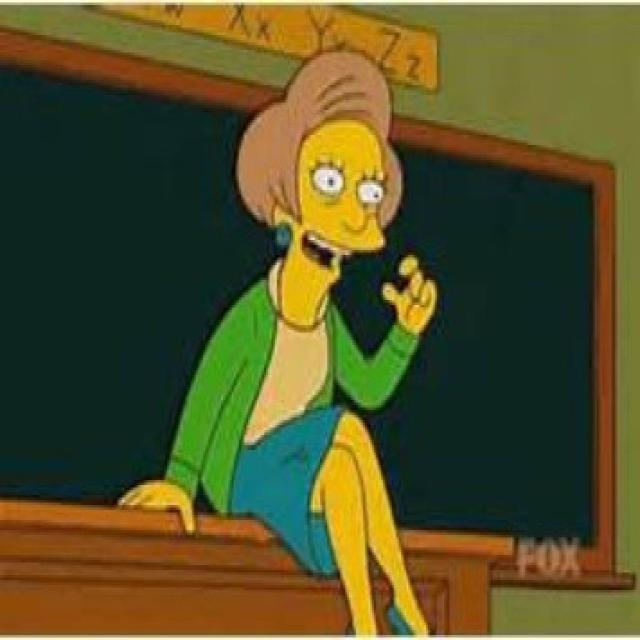Edna Krappel: (234, 45, 406, 325)
